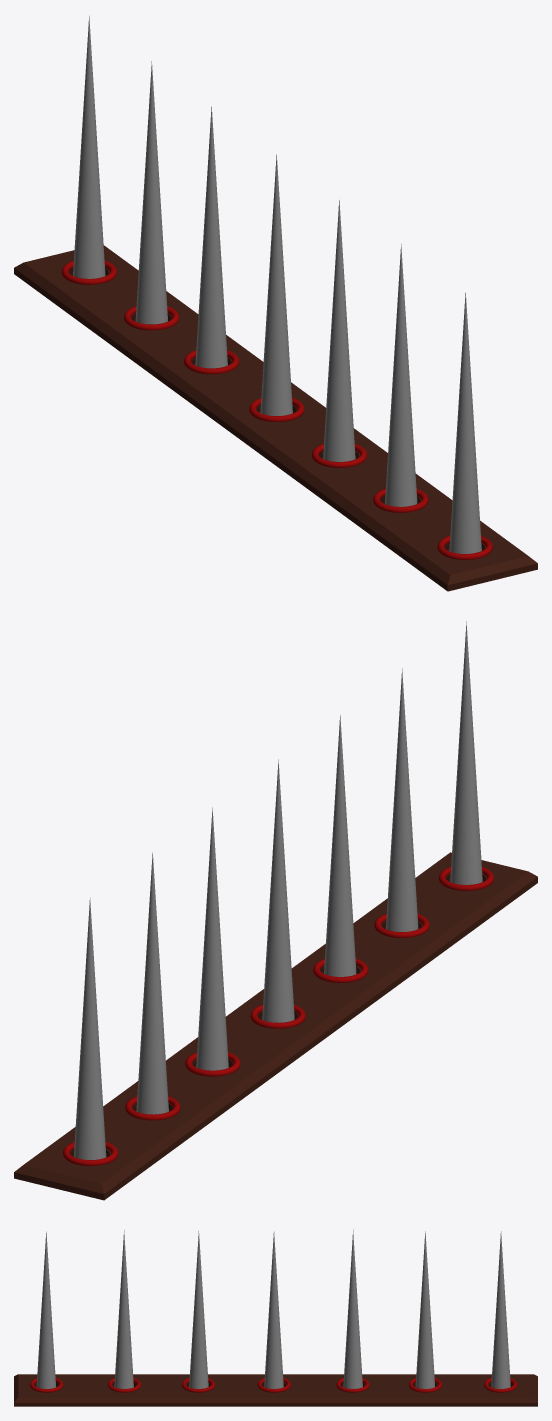
File: UpAndDownSpikes_Down.FBX
3 views of the same model, one above another, from view 1: azimuth 30°, elevation 25°; view 2: azimuth 150°, elevation 25°; view 3: azimuth 270°, elevation 25° (orthographic). The views are drawn at different scales.
Parts seen in each view (by area): view 1: Box001, Cone033, Cone038, Cone037, Cone036, Cone039, Cone035, Cone034; view 2: Box001, Cone037, Cone039, Cone034, Cone035, Cone036, Cone038, Cone033; view 3: Box001, Cone033, Cone035, Cone034, Cone039, Cone038, Cone037, Cone036.
Part boxes in pixels (x1=…): Box001: x1=14, y1=245, x2=537, y2=591; Cone033: x1=73, y1=16, x2=105, y2=278; Cone038: x1=323, y1=200, x2=355, y2=461; Cone037: x1=195, y1=106, x2=227, y2=368; Cone036: x1=135, y1=61, x2=167, y2=324; Cone039: x1=385, y1=244, x2=417, y2=506; Cone035: x1=260, y1=154, x2=292, y2=415; Cone034: x1=449, y1=292, x2=481, y2=553; Box001: x1=14, y1=852, x2=537, y2=1200; Cone037: x1=196, y1=807, x2=228, y2=1070; Cone039: x1=386, y1=668, x2=418, y2=931; Cone034: x1=450, y1=621, x2=482, y2=884; Cone035: x1=262, y1=759, x2=294, y2=1022; Cone036: x1=136, y1=852, x2=168, y2=1114; Cone038: x1=324, y1=715, x2=356, y2=976; Cone033: x1=74, y1=897, x2=106, y2=1159; Box001: x1=14, y1=1374, x2=537, y2=1406; Cone033: x1=491, y1=1231, x2=510, y2=1388; Cone035: x1=264, y1=1231, x2=283, y2=1388; Cone034: x1=36, y1=1231, x2=56, y2=1388; Cone039: x1=114, y1=1230, x2=133, y2=1388; Cone038: x1=189, y1=1231, x2=208, y2=1388; Cone037: x1=343, y1=1229, x2=362, y2=1388; Cone036: x1=415, y1=1231, x2=435, y2=1388.
Size of the model in its own units: 0.3 by 0.8622 by 2.5.
